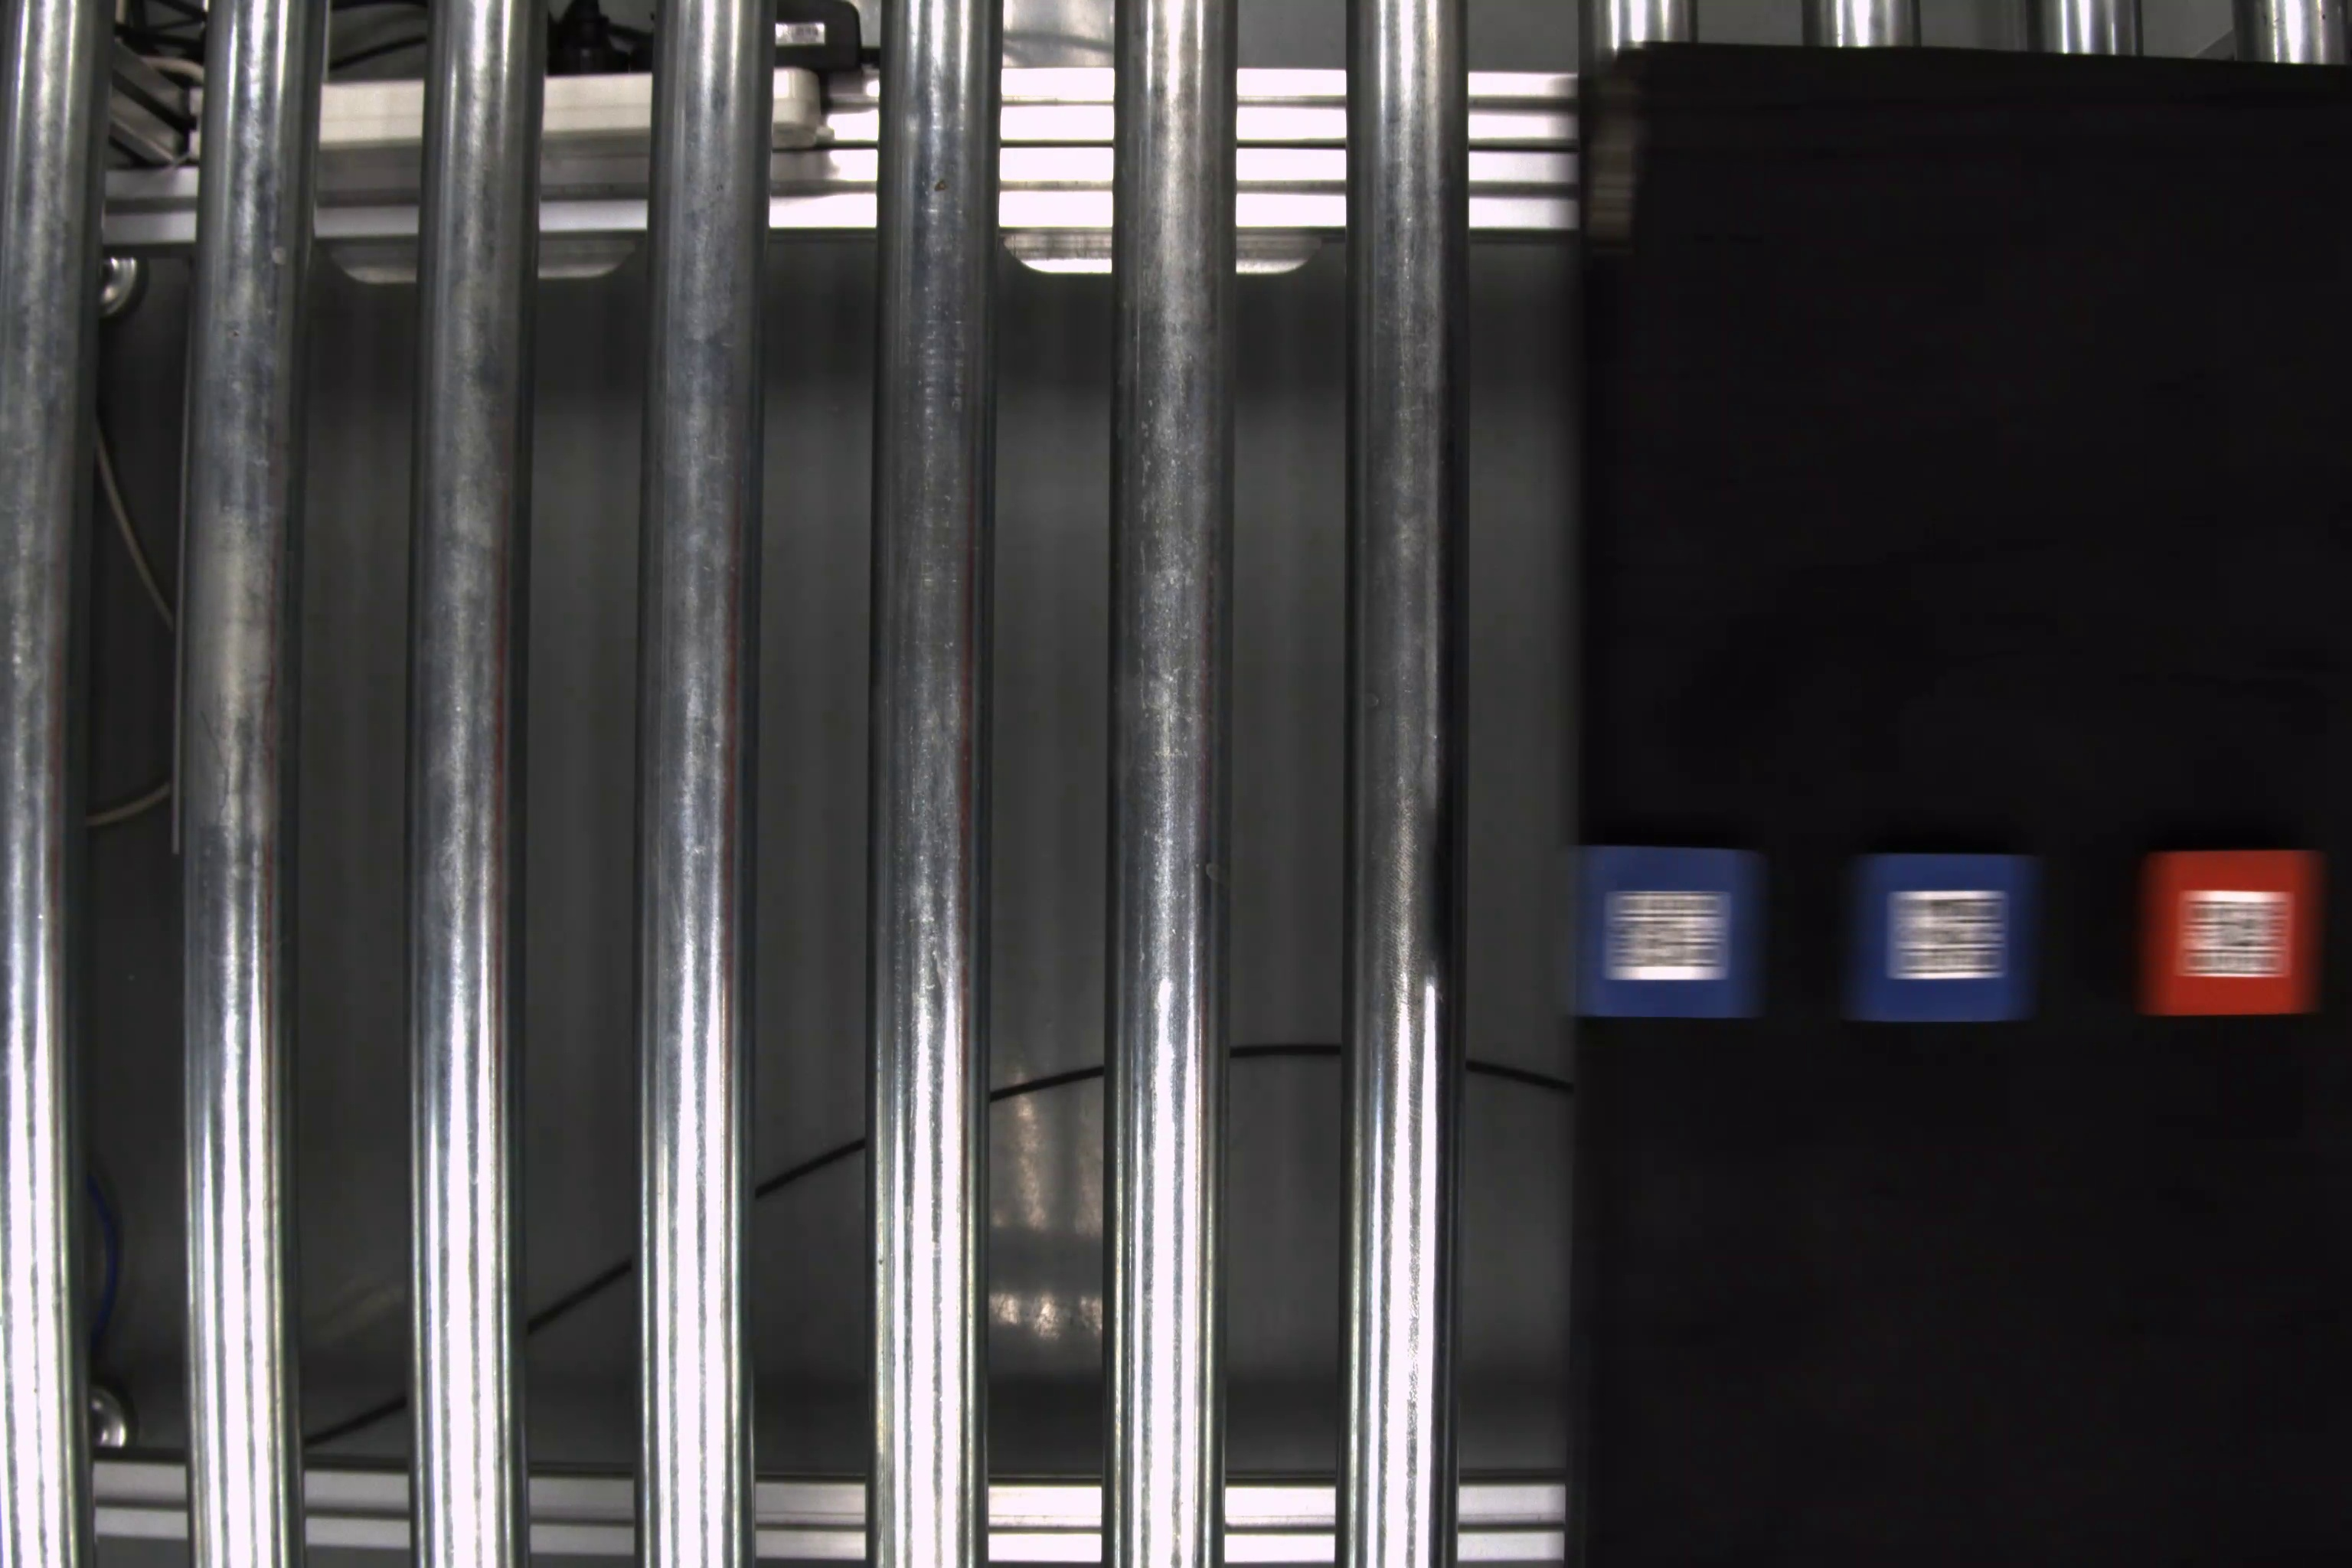wood: (1566, 845, 1771, 1022), (1844, 845, 2042, 1022), (2140, 847, 2329, 1018)
